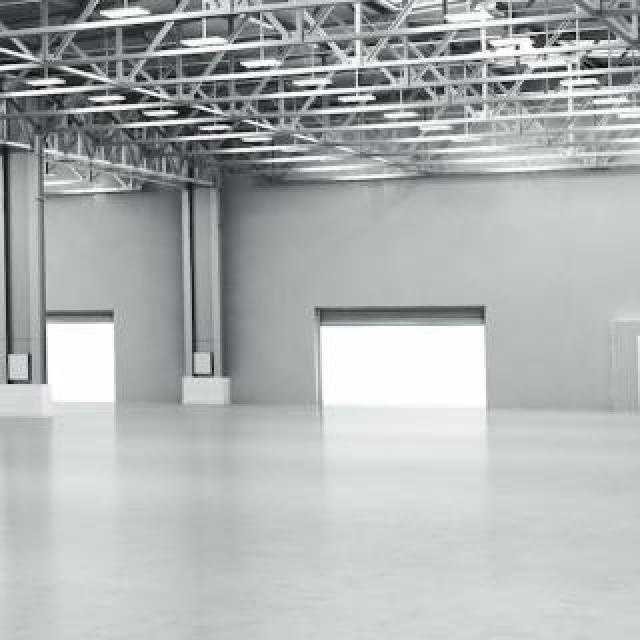fluorescent tube: (184, 29, 244, 55), (335, 88, 387, 108), (289, 74, 340, 94), (382, 102, 429, 122)
